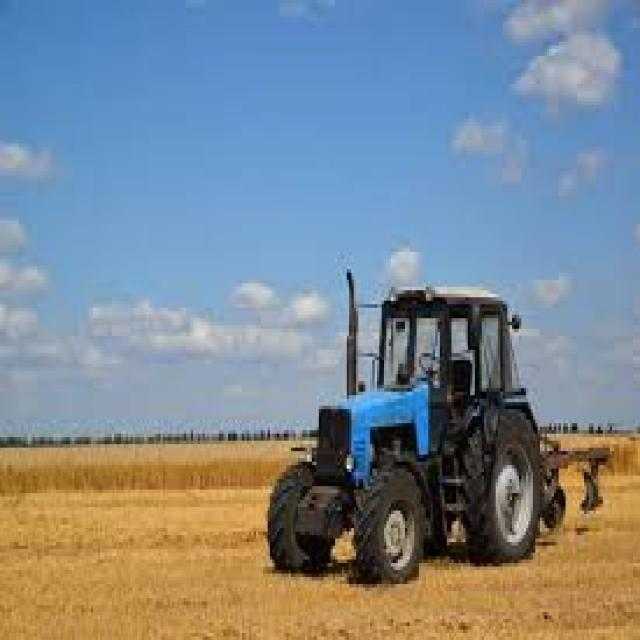Tratores - v5 YOLO V8L 2024-11-13: (266, 284, 544, 580)
